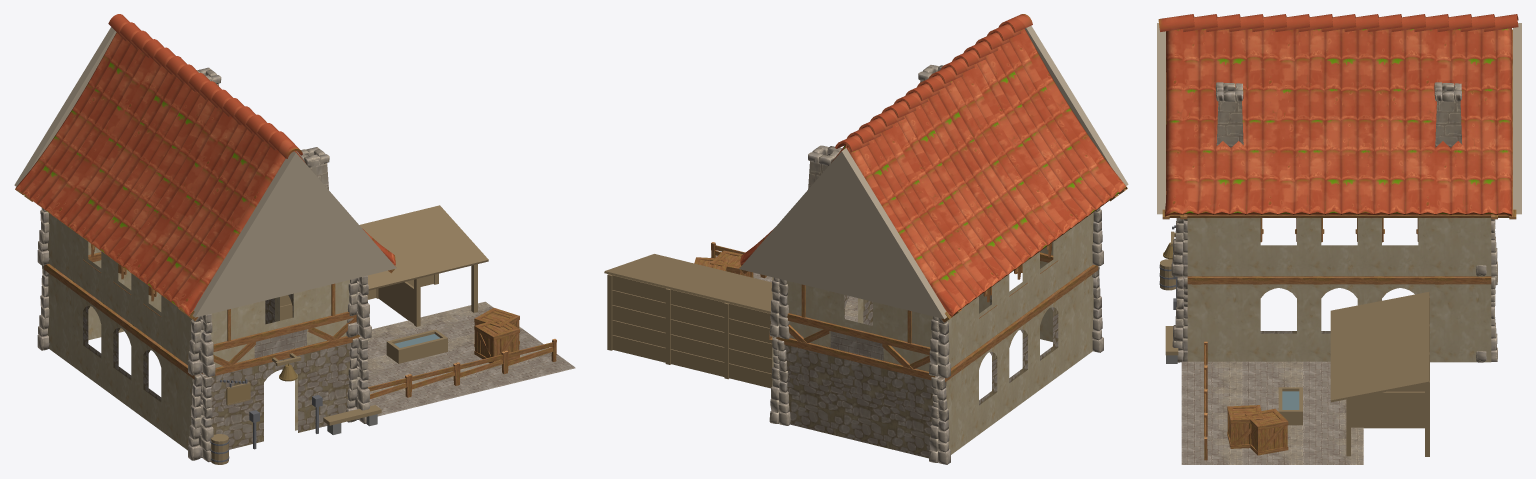
Rendered from town_inn_t3.glb.
The picture shows the model from 3 angles, left to right: view 1: azimuth 30°, elevation 25°; view 2: azimuth 150°, elevation 25°; view 3: azimuth 270°, elevation 25°; orthographic projection.
Parts seen in each view (by area): view 1: Roof_RoundTiles_6x10_inst, gable, Wall_UnevenBrick_Straight_inst.003, Wall_UnevenBrick_Straight_inst, Wall_UnevenBrick_Straight_inst.007, Wall_Plaster_Straight_inst, Wall_Plaster_Straight_inst.002, Wall_Plaster_Window_Wide_Round_inst, Wall_UnevenBrick_Window_Wide_Round_inst.004, Wall_UnevenBrick_Window_Wide_Round_inst, Wall_UnevenBrick_Window_Wide_Round_inst.002, Wall_UnevenBrick_Door_Round_inst (+36 smaller); view 2: Roof_RoundTiles_6x10_inst, gable.001, Wall_UnevenBrick_Straight_inst.002, Wall_UnevenBrick_Straight_inst.001, Wall_UnevenBrick_Straight_inst.004, Wall_Plaster_Straight_inst.001, Wall_UnevenBrick_Straight_inst.005, Wall_Plaster_Straight_inst.003, stable_board.002, Wall_Plaster_Window_Wide_Round_inst.001, stable_board.001, stable_board (+26 smaller); view 3: Roof_RoundTiles_6x10_inst, Wall_UnevenBrick_Straight_inst.008, Wall_UnevenBrick_Straight_inst.006, Wall_UnevenBrick_Window_Wide_Round_inst.001, Wall_Plaster_Straight_inst.005, Wall_Plaster_Straight_inst.007, stable_divide.001, Wall_Plaster_Window_Wide_Round_inst.005, Wall_Plaster_Window_Wide_Round_inst.003, Wall_Plaster_Window_Wide_Round_inst.007, Wall_UnevenBrick_Window_Wide_Round_inst.003, gable.001 (+28 smaller).
Boxes of the visible parts, x1,y1,x2,y2 form: Roof_RoundTiles_6x10_inst: (15,14,395,320); gable: (192,151,396,317); Wall_UnevenBrick_Straight_inst.003: (302,334,360,430); Wall_UnevenBrick_Straight_inst: (202,358,256,449); Wall_UnevenBrick_Straight_inst.007: (44,264,76,368); Wall_Plaster_Straight_inst: (211,303,256,367); Wall_Plaster_Straight_inst.002: (307,280,356,345); Wall_Plaster_Window_Wide_Round_inst: (254,290,308,358); Wall_UnevenBrick_Window_Wide_Round_inst.004: (74,284,107,390); Wall_UnevenBrick_Window_Wide_Round_inst: (134,328,167,434); Wall_UnevenBrick_Window_Wide_Round_inst.002: (104,306,137,412); Wall_UnevenBrick_Door_Round_inst: (250,346,308,442); Roof_RoundTiles_6x10_inst: (740,14,1127,322); gable.001: (739,148,946,318); Wall_UnevenBrick_Straight_inst.002: (829,348,883,447); Wall_UnevenBrick_Straight_inst.001: (882,361,935,458); Wall_UnevenBrick_Straight_inst.004: (776,337,834,434); Wall_Plaster_Straight_inst.001: (882,304,932,371); Wall_UnevenBrick_Straight_inst.005: (1060,264,1098,371); Wall_Plaster_Straight_inst.003: (787,281,830,347); stable_board.002: (612,305,772,358); Wall_Plaster_Window_Wide_Round_inst.001: (829,291,883,360); stable_board.001: (612,320,772,373); stable_board: (612,335,772,388); Roof_RoundTiles_6x10_inst: (1158,14,1518,219); Wall_UnevenBrick_Straight_inst.008: (1430,276,1491,362); Wall_UnevenBrick_Straight_inst.006: (1187,276,1248,361); Wall_UnevenBrick_Window_Wide_Round_inst.001: (1248,276,1308,361); Wall_Plaster_Straight_inst.005: (1187,218,1248,276); Wall_Plaster_Straight_inst.007: (1430,218,1491,276); stable_divide.001: (1351,391,1424,428); Wall_Plaster_Window_Wide_Round_inst.005: (1309,218,1369,276); Wall_Plaster_Window_Wide_Round_inst.003: (1248,218,1308,276); Wall_Plaster_Window_Wide_Round_inst.007: (1370,218,1430,276); Wall_UnevenBrick_Window_Wide_Round_inst.003: (1309,276,1369,361); gable.001: (1513,23,1521,214).
Size of the model in its own units: 15.32 by 11.16 by 12.02.
40 materials, 23 textured.
